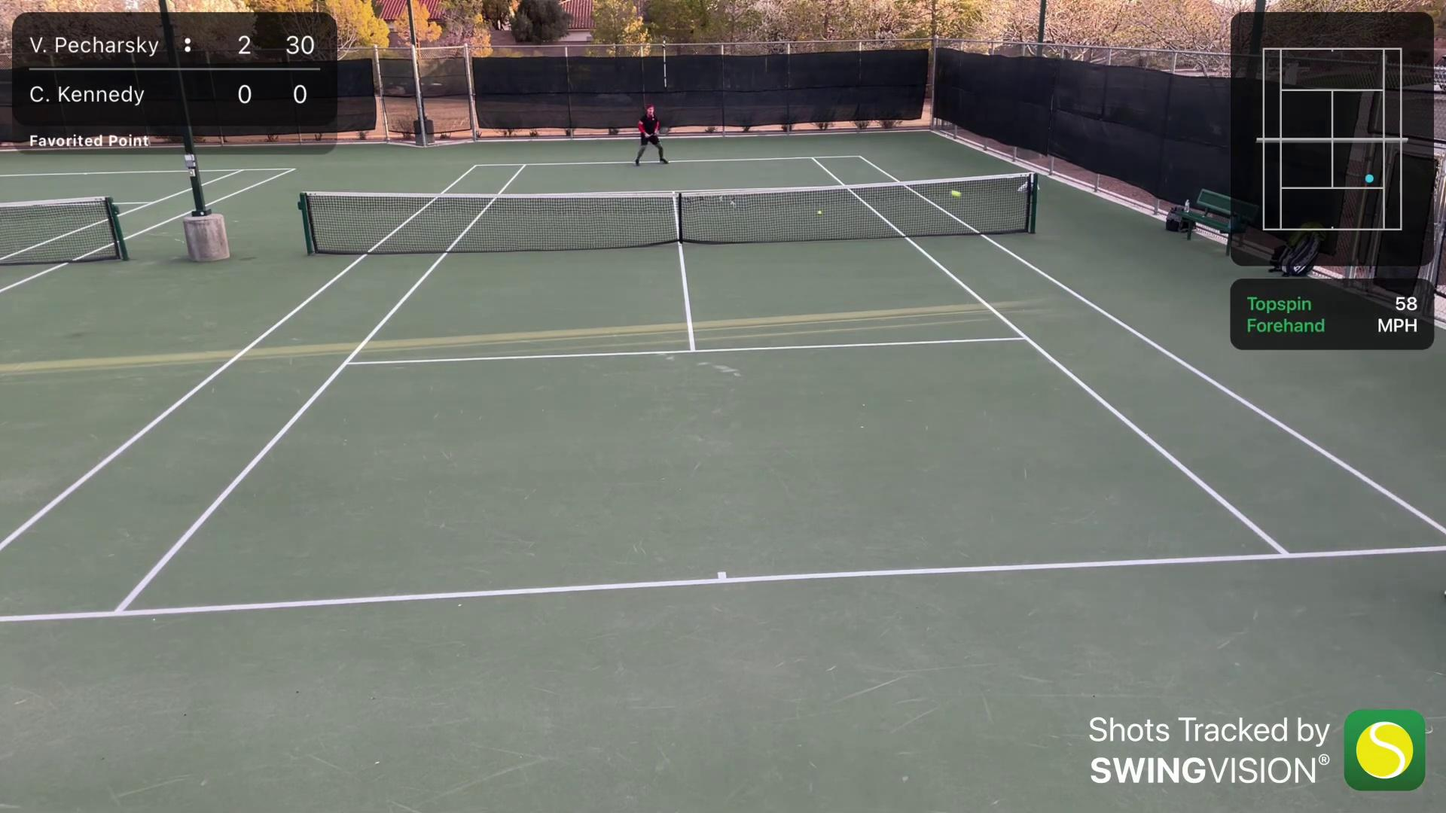ball: (947, 189, 965, 200), (816, 209, 822, 215)
